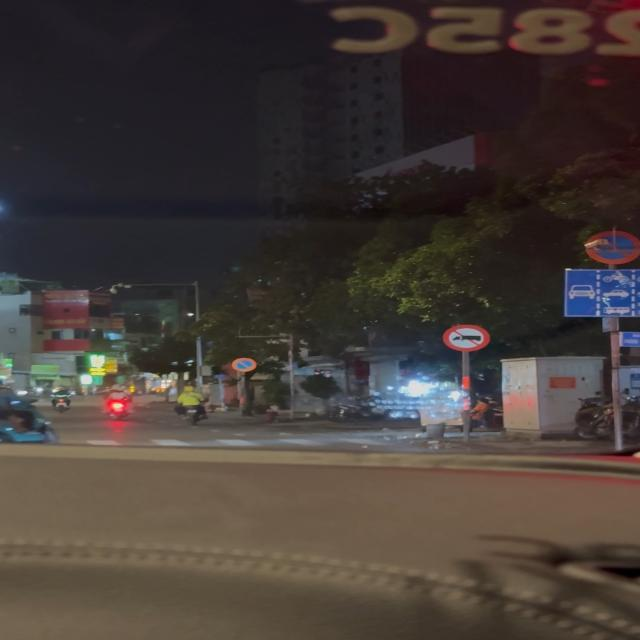Bien bao cam do xe: (230, 356, 260, 373)
Bien bao cam xe so-mi ro-mooc: (440, 324, 495, 353)
